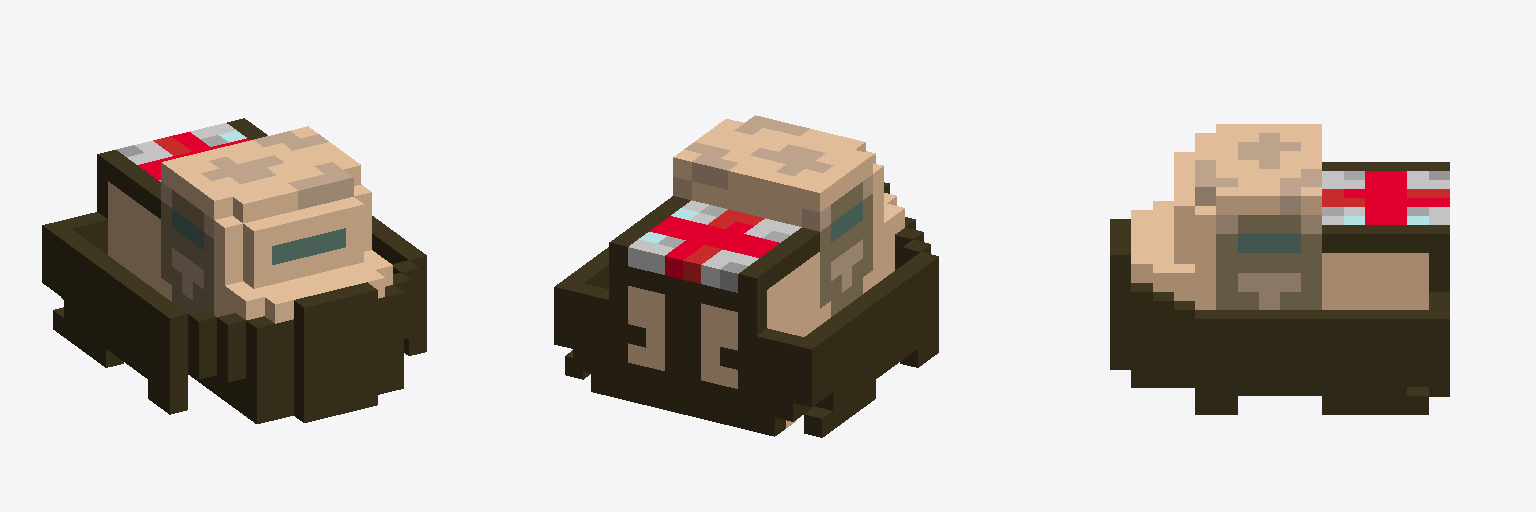
3 renders of one model, left to right at view 1: azimuth 30°, elevation 25°; view 2: azimuth 150°, elevation 25°; view 3: azimuth 270°, elevation 25°, orthographic.
Visible parts, largest first — view 1: Model; view 2: Model; view 3: Model.
Boxes of the visible parts, x1,y1,x2,y2 form: Model: [42, 118, 426, 423]; Model: [554, 115, 938, 437]; Model: [1110, 124, 1449, 414].
Size of the model in its own units: 28 by 20 by 32.
1 materials, 1 textured.